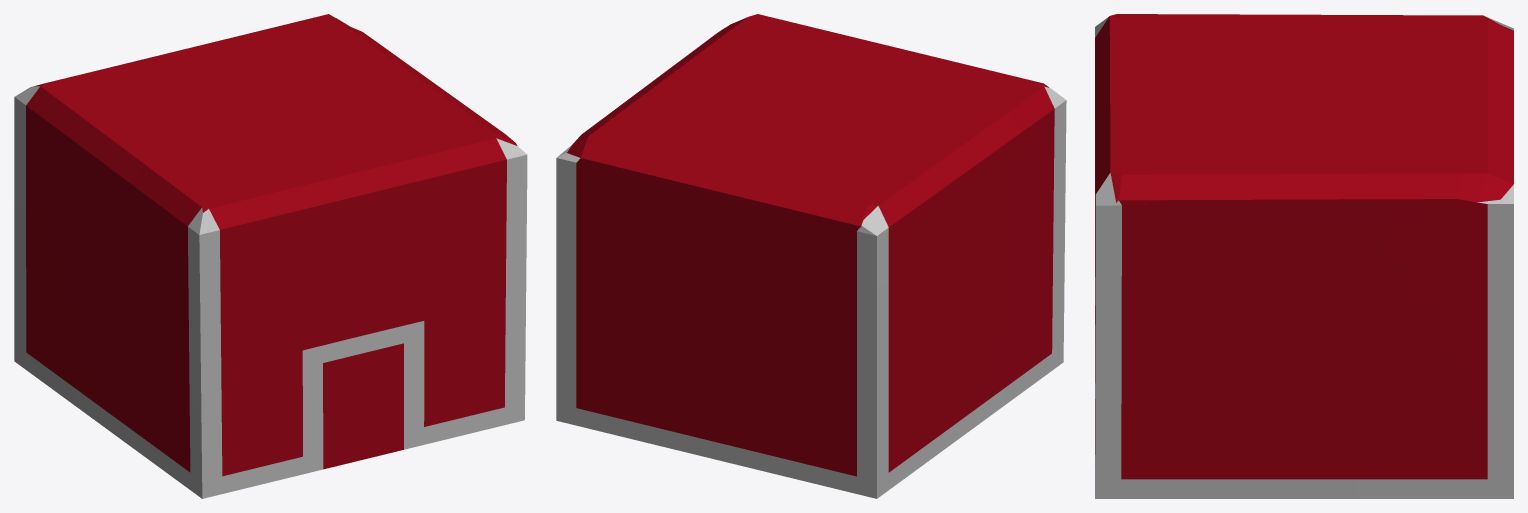
The model's file is barn.fbx.
The picture shows the model from 3 angles, left to right: view 1: azimuth 30°, elevation 25°; view 2: azimuth 150°, elevation 25°; view 3: azimuth 270°, elevation 25°; orthographic projection. The views are drawn at different scales.
Visible parts, largest first — view 1: pCube1; view 2: pCube1; view 3: pCube1.
Part boxes in pixels (bbox=[...]): pCube1: bbox=[14, 14, 527, 498]; pCube1: bbox=[556, 14, 1066, 498]; pCube1: bbox=[1095, 14, 1513, 498].
Size of the model in its own units: 3.45 by 2.84 by 3.42.
